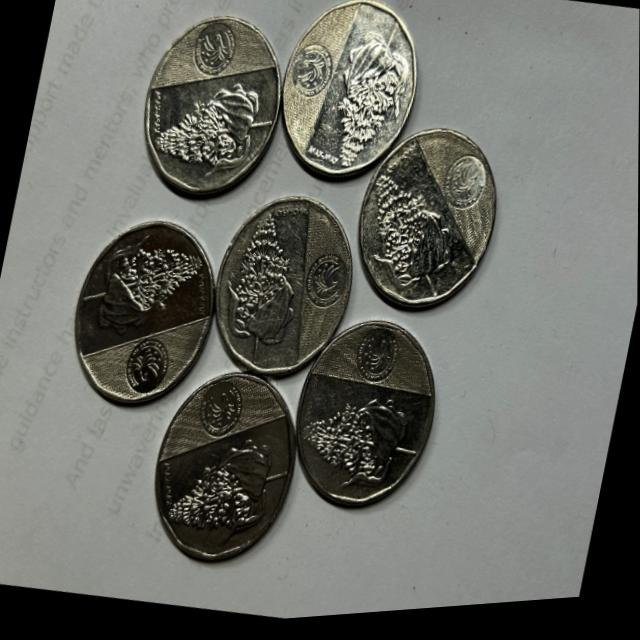10_New_Back: (300, 17, 417, 190), (150, 57, 281, 209), (295, 377, 430, 512), (74, 215, 211, 344), (174, 414, 290, 562), (221, 193, 315, 364), (357, 159, 470, 298)
